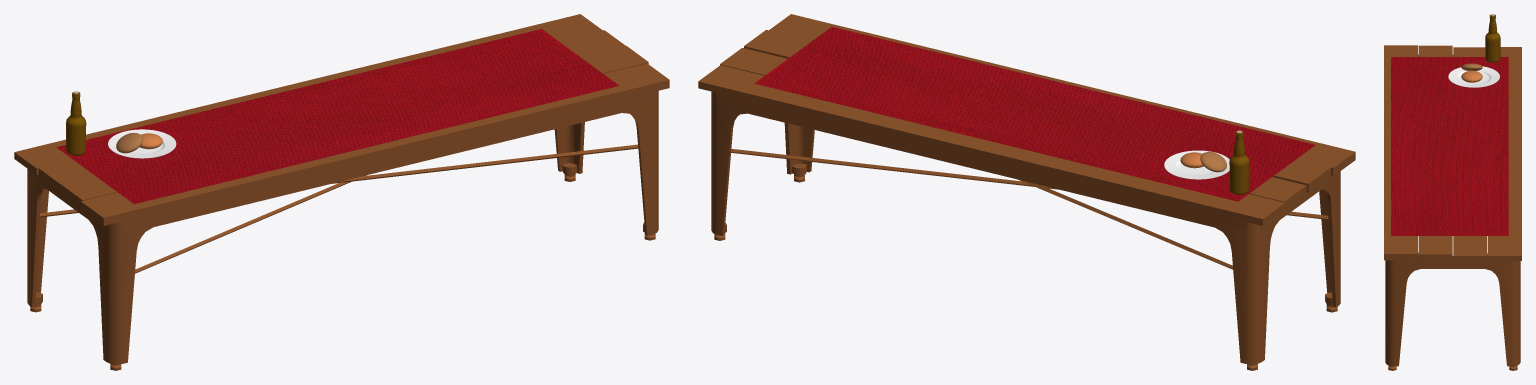
File: bench4.glb
3 views of the same model, side by side, from view 1: azimuth 30°, elevation 25°; view 2: azimuth 150°, elevation 25°; view 3: azimuth 270°, elevation 25° (orthographic). The views are drawn at different scales.
Parts seen in each view (by area): view 1: Body1, 平面, Body, 球; view 2: Body1, 平面, Body, 球; view 3: 平面, Body1, Body, 球.
Part boxes in pixels (x1=…): Body1: x1=14, y1=14, x2=669, y2=370; 平面: x1=57, y1=29, x2=619, y2=204; Body: x1=66, y1=91, x2=86, y2=155; 球: x1=116, y1=132, x2=162, y2=153; Body1: x1=698, y1=14, x2=1355, y2=370; 平面: x1=754, y1=27, x2=1315, y2=201; Body: x1=1229, y1=130, x2=1249, y2=194; 球: x1=1180, y1=151, x2=1226, y2=172; 平面: x1=1391, y1=57, x2=1508, y2=235; Body1: x1=1384, y1=45, x2=1521, y2=370; Body: x1=1485, y1=14, x2=1500, y2=62; 球: x1=1461, y1=63, x2=1482, y2=82.
Size of the model in its own units: 2.11 by 0.7824 by 0.5855.
Materials: 7 (1 with a texture image).
